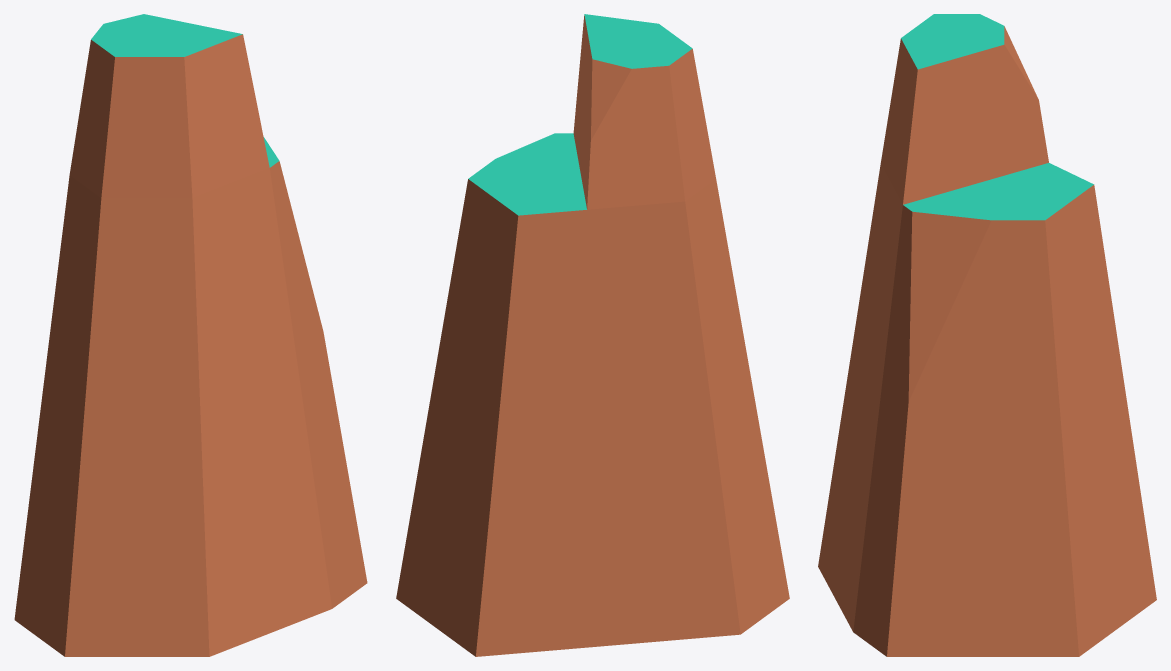
The model's file is rock_tallI.glb.
The picture shows the model from 3 angles, left to right: view 1: azimuth 30°, elevation 25°; view 2: azimuth 150°, elevation 25°; view 3: azimuth 270°, elevation 25°; orthographic projection. The views are drawn at different scales.
Visible parts, largest first — view 1: rock_tallI; view 2: rock_tallI; view 3: rock_tallI.
Part boxes in pixels (<box>): rock_tallI: <box>14,14,367,656</box>; rock_tallI: <box>396,14,789,656</box>; rock_tallI: <box>818,14,1156,656</box>.
Bounding box in the file's own units: 0.4562 × 0.8118 × 0.4644.
